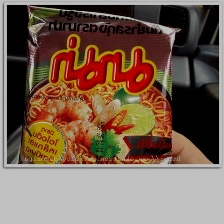snack: (12, 4, 188, 163)
